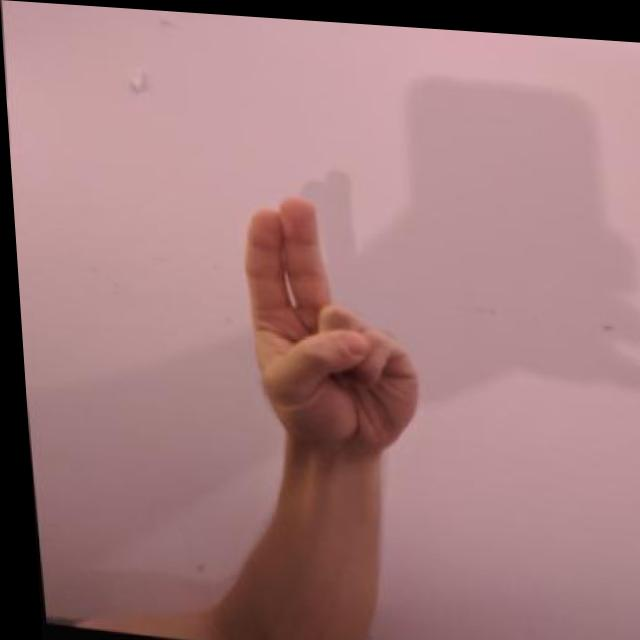U: (217, 181, 429, 463)
